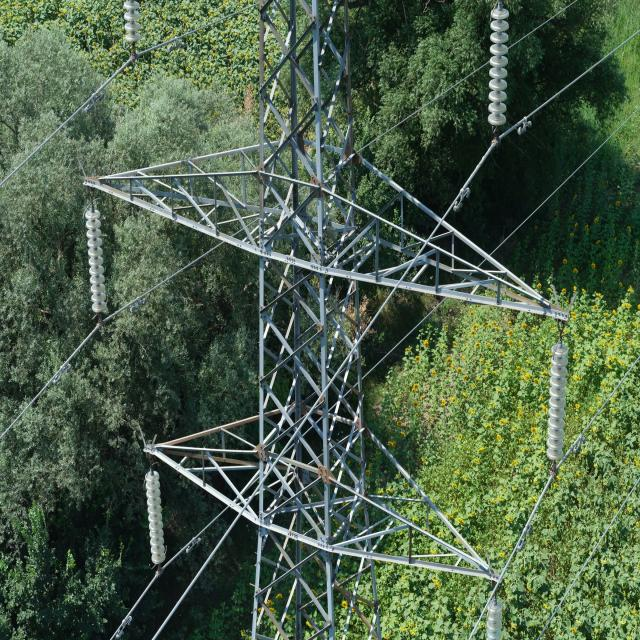direk: (246, 12, 385, 640)
